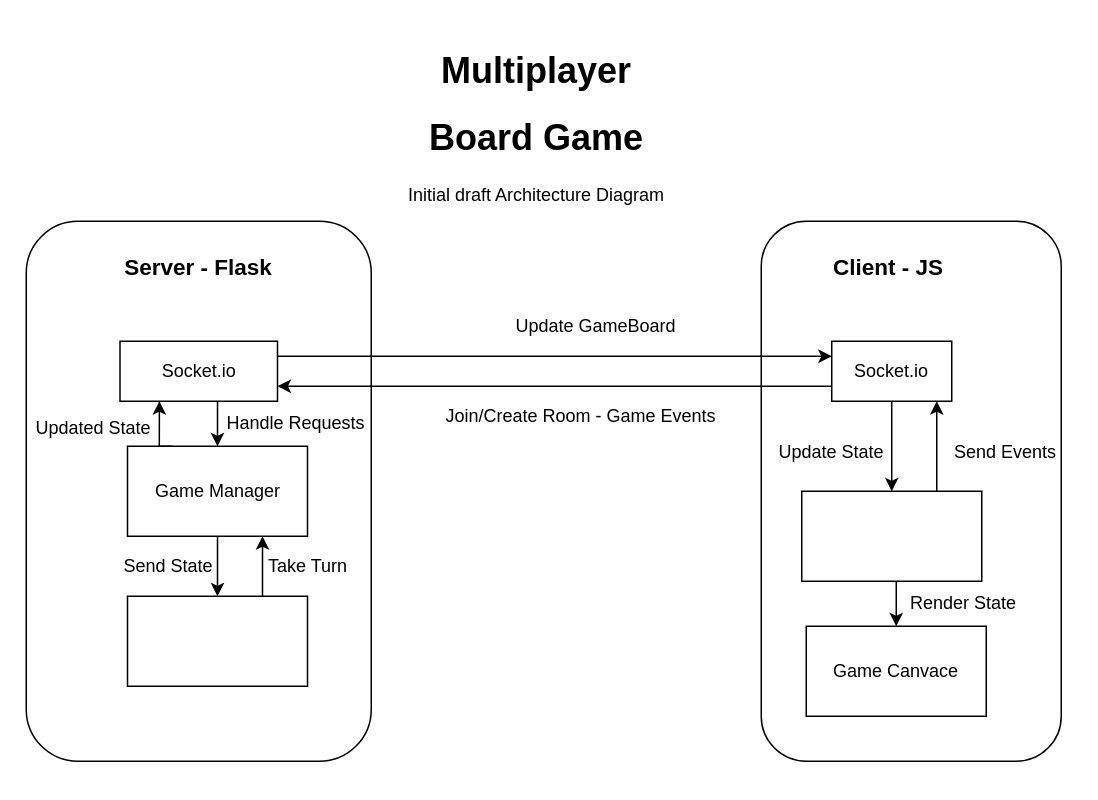
The diagram is 1098 pixels wide and 800 high, and some of its shapes have lost their labels. Each missing label, with the centre of its shape:
Bot AI: point 217,640
Game Room: point 891,535
